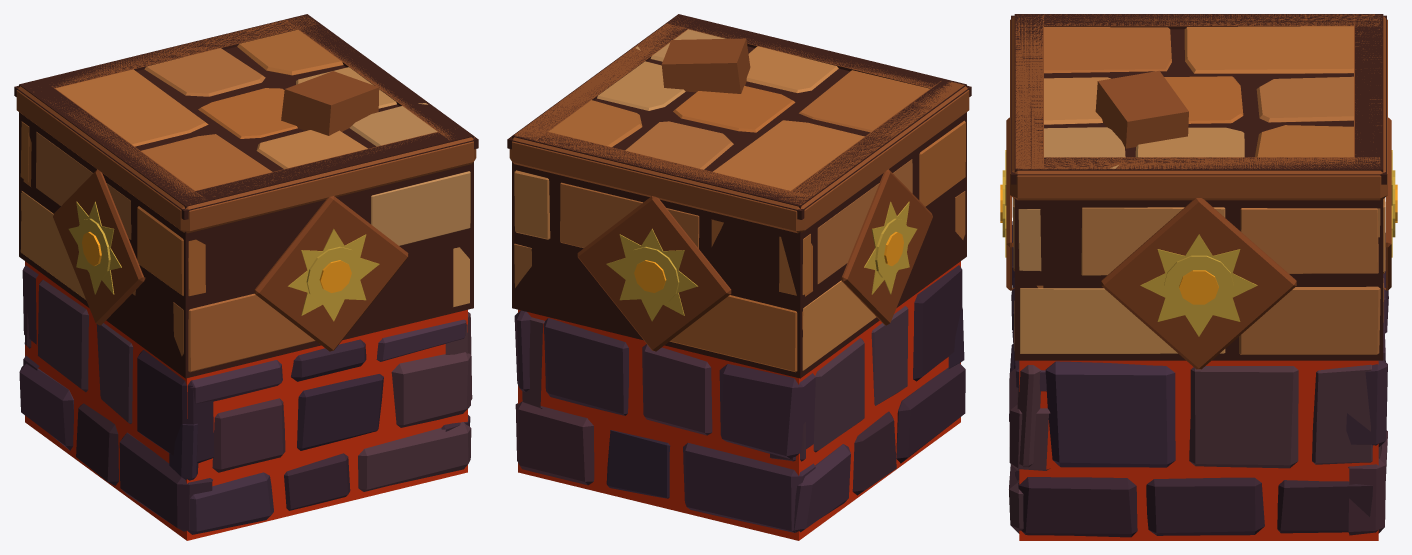
The model's file is wall_b.fbx.
3 renders of one model, left to right at view 1: azimuth 30°, elevation 25°; view 2: azimuth 150°, elevation 25°; view 3: azimuth 270°, elevation 25°, orthographic. The views are drawn at different scales.
Visible parts, largest first — view 1: wall_b; view 2: wall_b; view 3: wall_b.
Part boxes in pixels (x1,y1,x2,y2): wall_b: (14,14,478,540); wall_b: (507,14,971,540); wall_b: (1000,14,1397,540).
Size of the model in its own units: 4 by 4.5 by 4.
